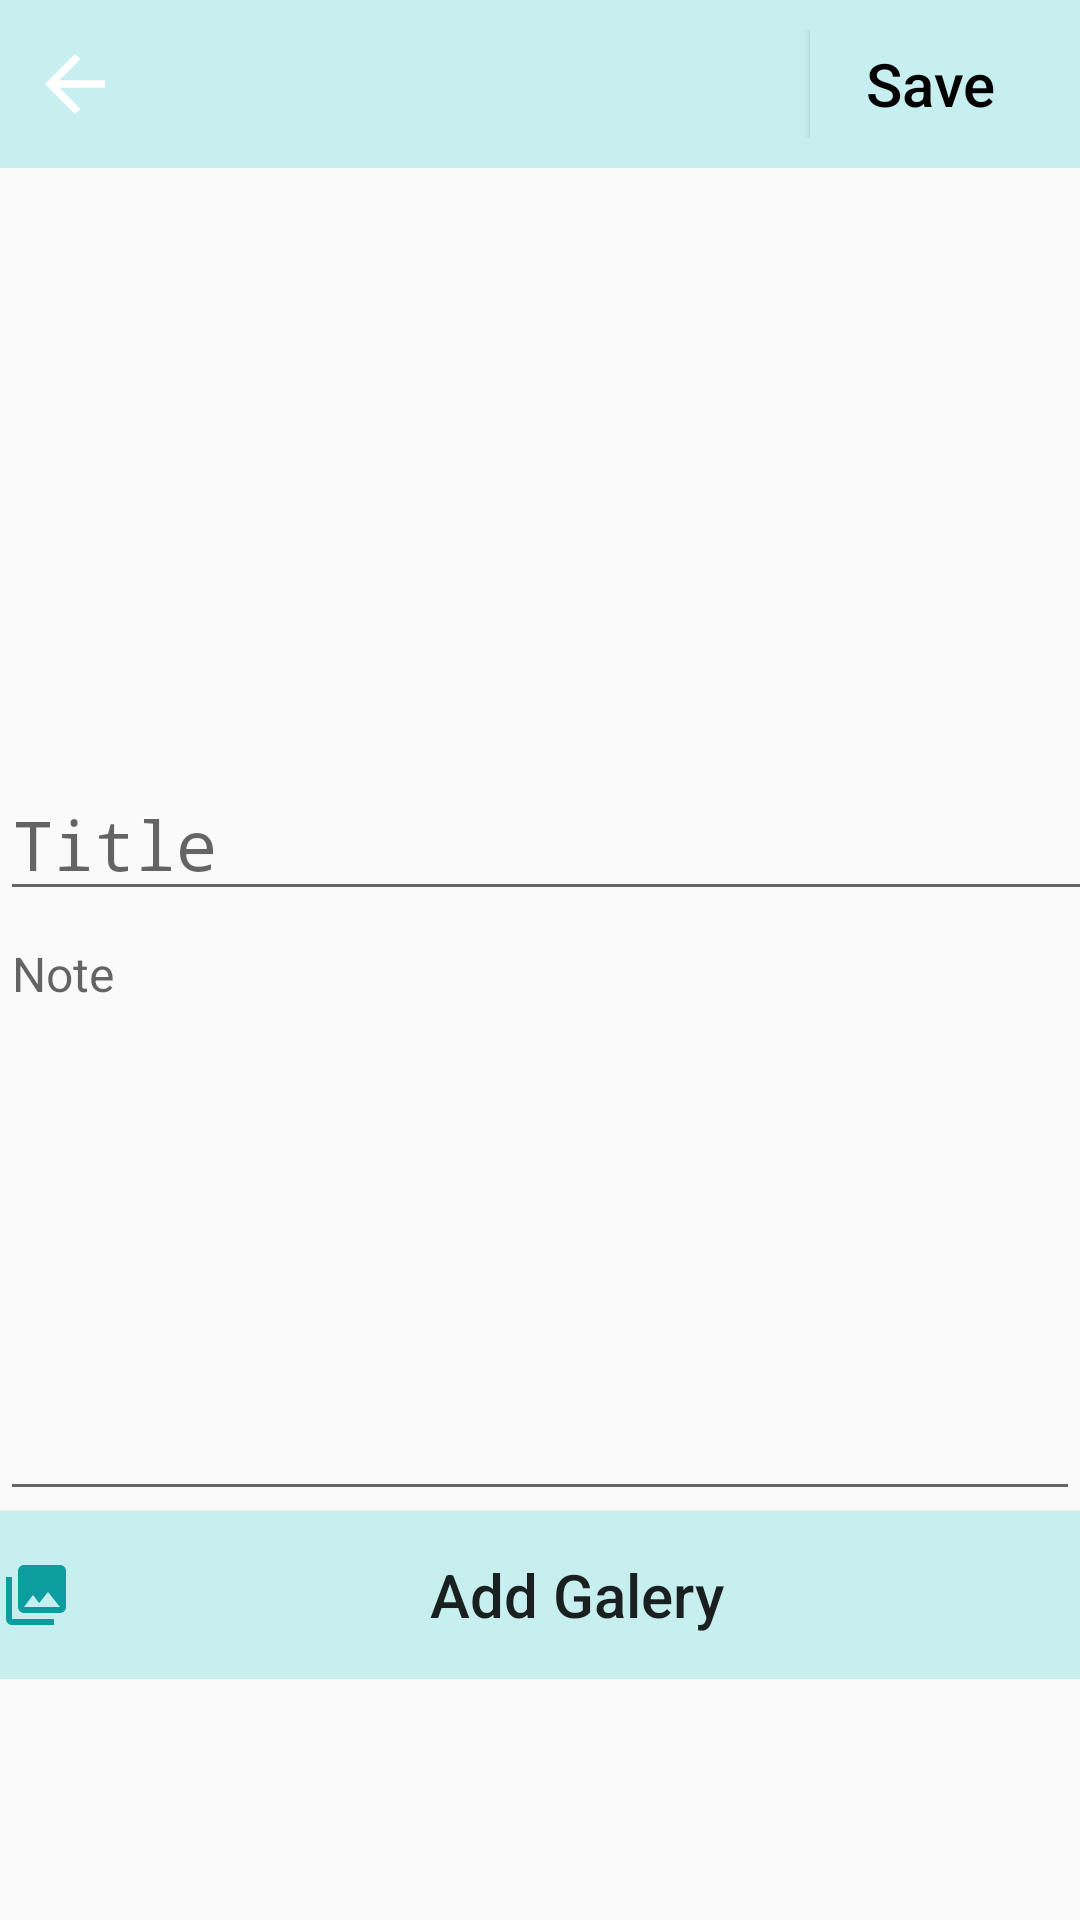

Icon click points for this 1080x1920 phone screenshot, format [x,y]:
arrow back: [75,84]
